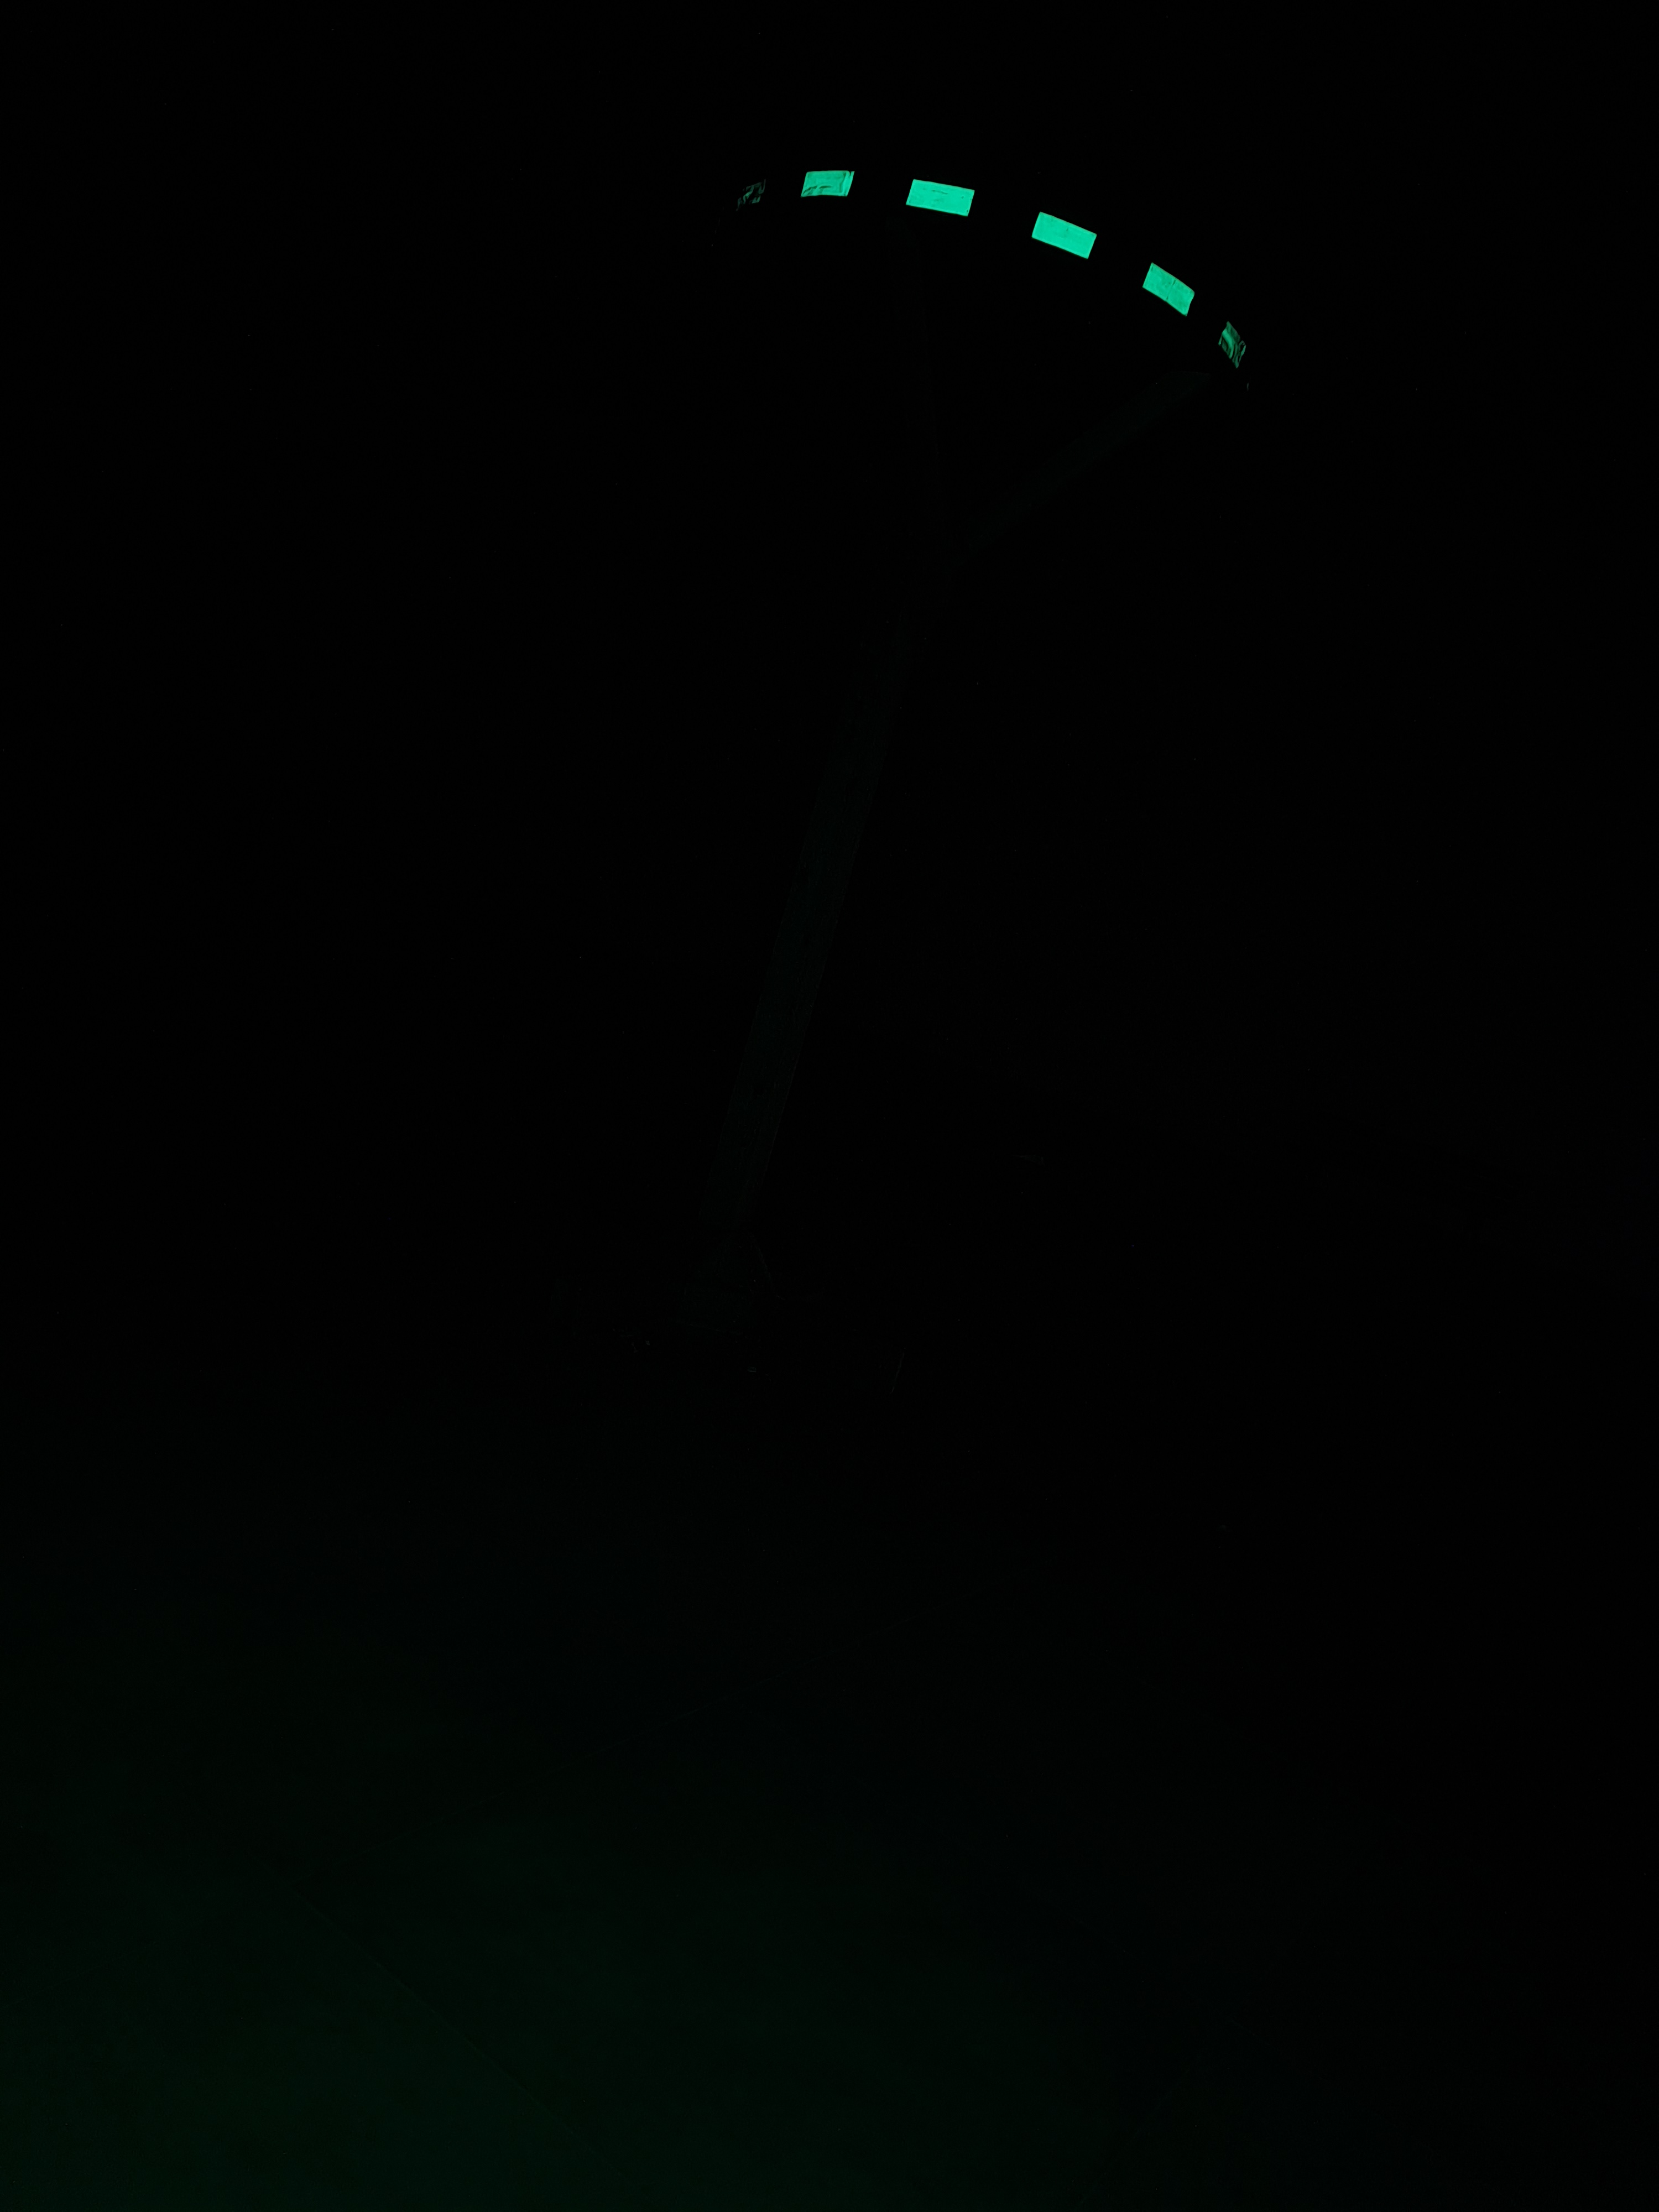hoop: (732, 157, 1249, 371)
